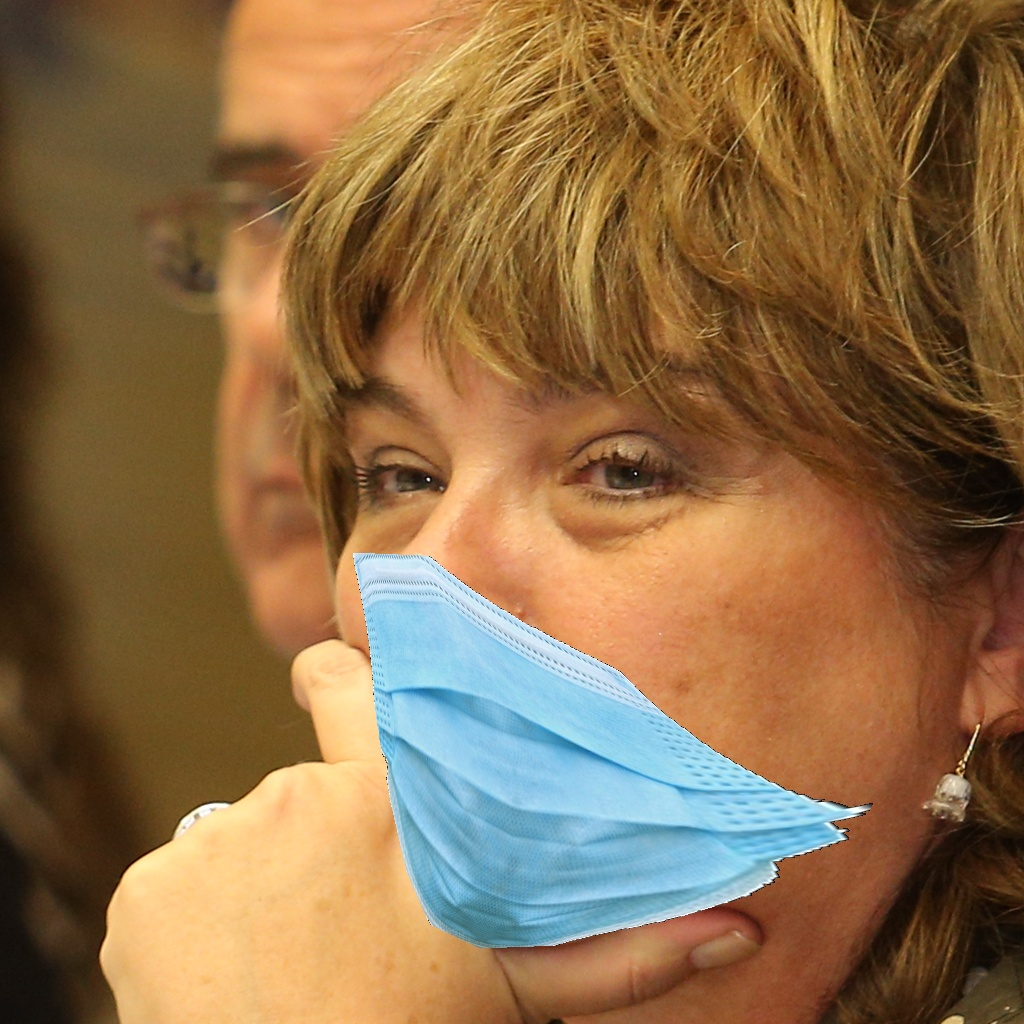Mask: (334, 360, 881, 941)
